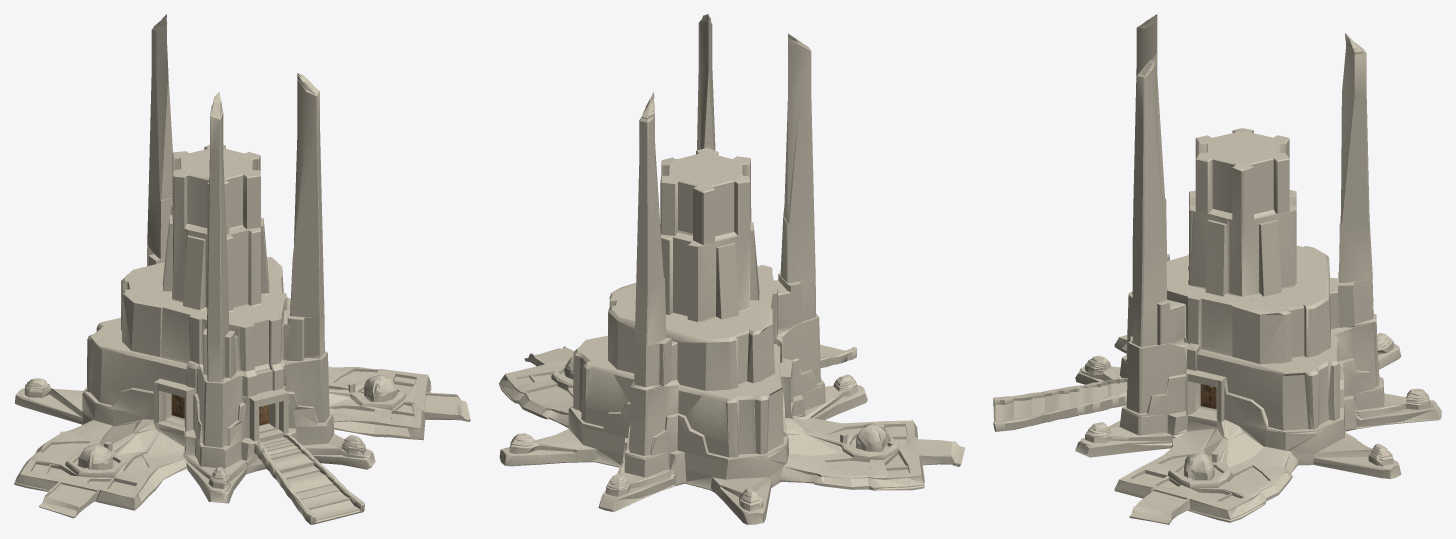
Rendered from PALACE_4.obj.
3 views of the same model, side by side, from view 1: azimuth 30°, elevation 25°; view 2: azimuth 150°, elevation 25°; view 3: azimuth 270°, elevation 25° (orthographic). The views are drawn at different scales.
Parts seen in each view (by area): view 1: input; view 2: input; view 3: input.
Part boxes in pixels (left/top/right/bottom): input: left=14, top=14, right=470, bottom=524; input: left=499, top=14, right=964, bottom=524; input: left=993, top=14, right=1441, bottom=524.
Size of the model in its own units: 149 by 127 by 133.
2 materials, 2 textured.
